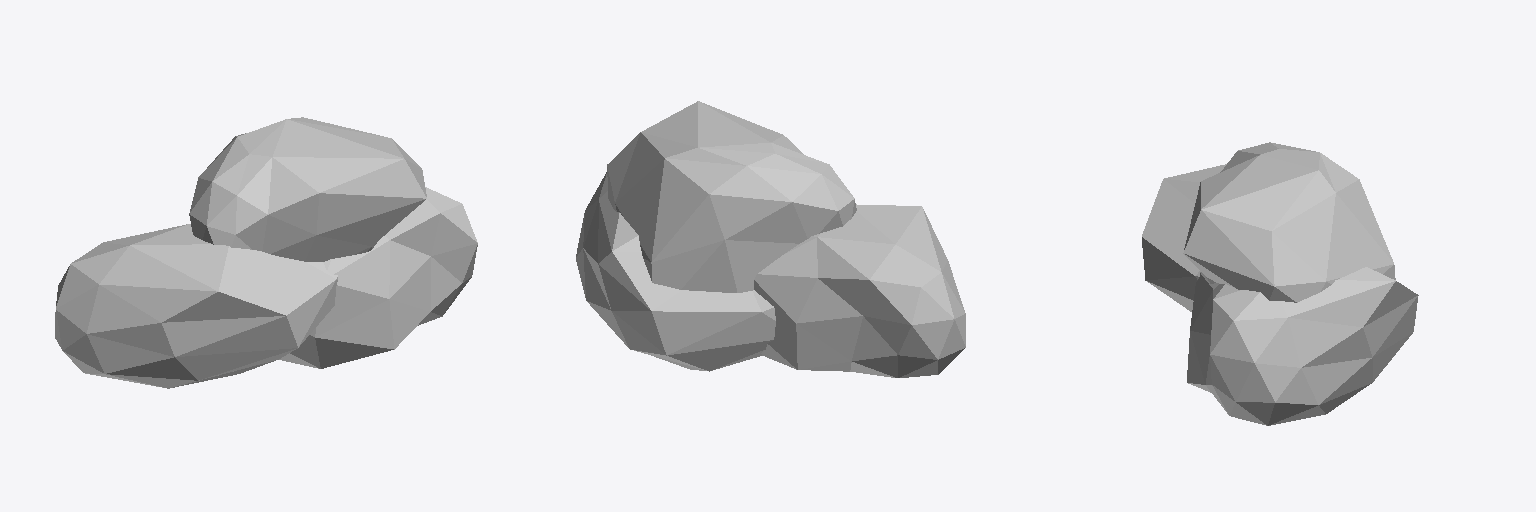
The model's file is Cloud3.obj.
3 views of the same model, side by side, from view 1: azimuth 30°, elevation 25°; view 2: azimuth 150°, elevation 25°; view 3: azimuth 270°, elevation 25° (orthographic).
Visible parts, largest first — view 1: Icosphere_Icosphere.017; view 2: Icosphere_Icosphere.017; view 3: Icosphere_Icosphere.017.
Part boxes in pixels (left/top/right/bottom): Icosphere_Icosphere.017: left=55, top=117, right=477, bottom=388; Icosphere_Icosphere.017: left=576, top=101, right=965, bottom=377; Icosphere_Icosphere.017: left=1142, top=142, right=1418, bottom=425.
Size of the model in its own units: 5.28 by 2.84 by 3.24.